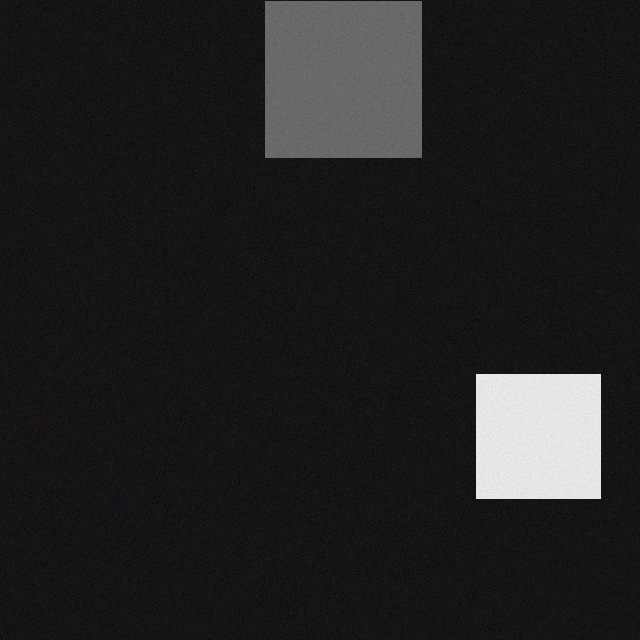square: (275, 2, 431, 158), (486, 375, 610, 499)
